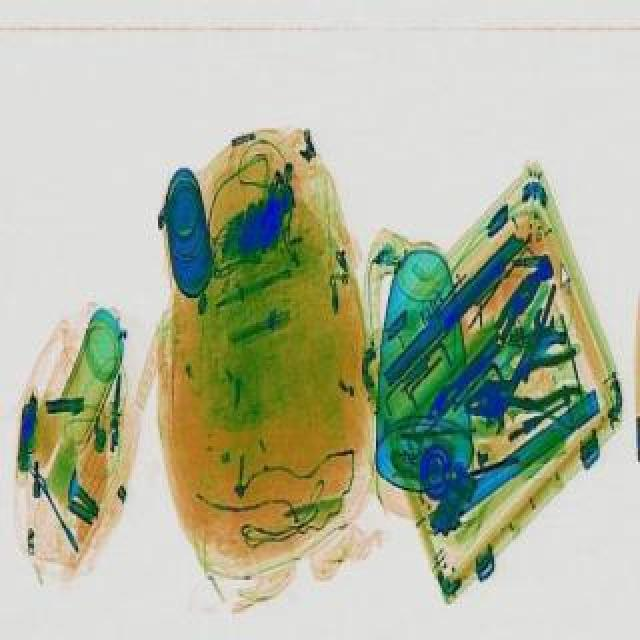scissors: (478, 304, 562, 432)
wrench: (454, 344, 590, 430)
